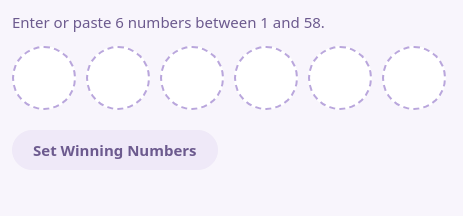
WinningInputComponent › says which number is entered twice, and marks both fields
This screenshot has width=463, height=216.
Type "16" into the 1st number field. click: (44, 78)
box: [12, 46, 76, 110]
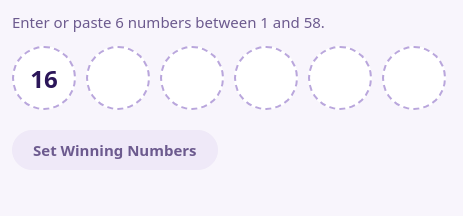
Type "16" into the 4th number field. click: (266, 78)
box: [234, 46, 298, 110]
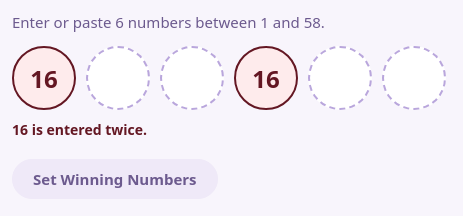
Now the text with id "winning-problem" reads "16 is entered twice.", box [12, 120, 147, 139]
